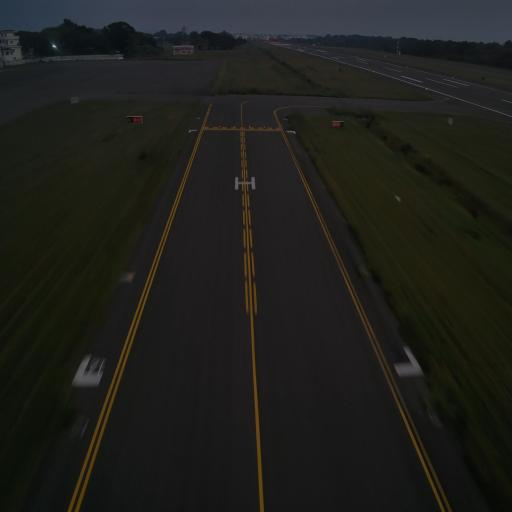on: (262, 124, 266, 130), (248, 122, 250, 130), (234, 123, 236, 128), (218, 125, 221, 128)
